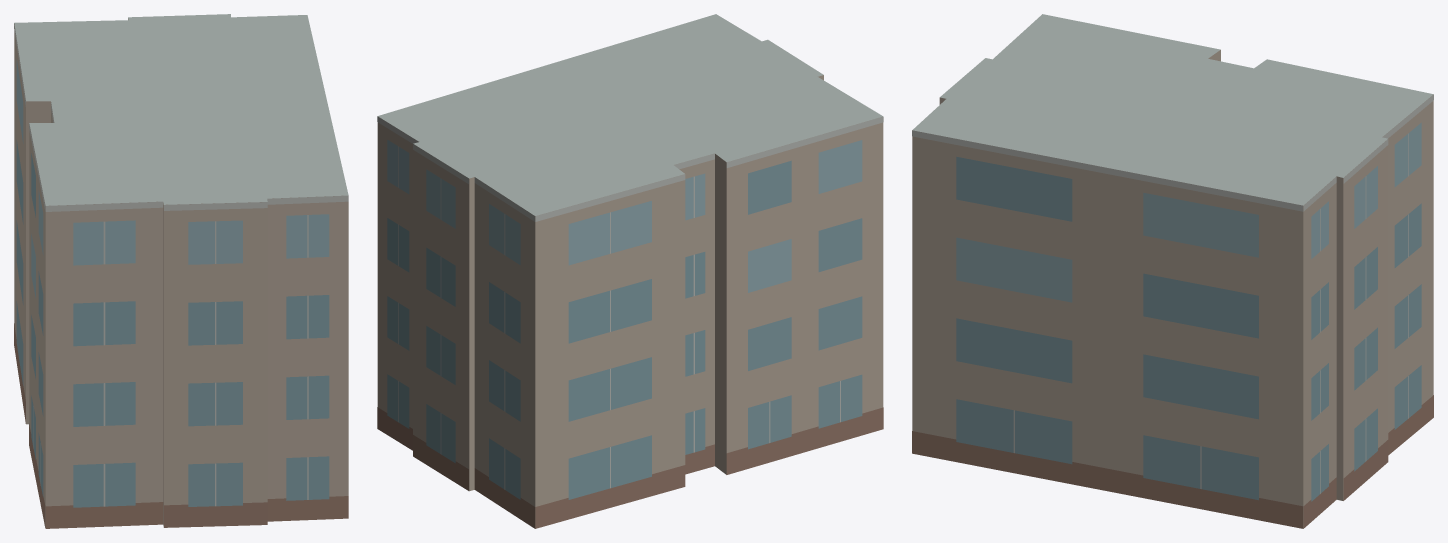
The model's file is survey-upis-32939975.glb.
The picture shows the model from 3 angles, left to right: view 1: azimuth 30°, elevation 25°; view 2: azimuth 150°, elevation 25°; view 3: azimuth 270°, elevation 25°; orthographic projection. The views are drawn at different scales.
Visible parts, largest first — view 1: survey-upis-32939975.tmp; view 2: survey-upis-32939975.tmp; view 3: survey-upis-32939975.tmp.
Part boxes in pixels (<box>): survey-upis-32939975.tmp: <box>14,14,348,528</box>; survey-upis-32939975.tmp: <box>377,14,883,528</box>; survey-upis-32939975.tmp: <box>912,14,1433,528</box>.
Bounding box in the file's own units: 16.28 × 12.8 × 18.73.
